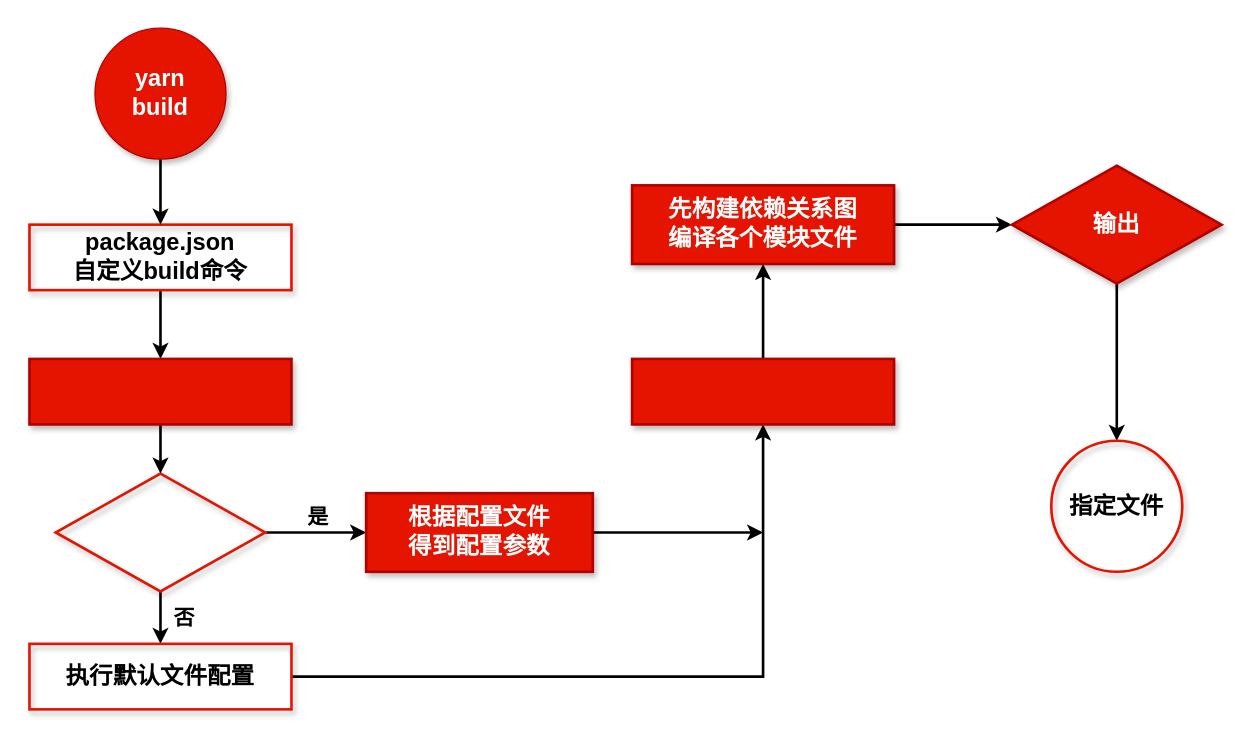
The diagram is 1252 pixels wide and 743 high, and some of its shapes have lost their labels. Each missing label, with the centre of its shape:
"找到入口" belongs at [764,393].
"是否配置文件" belongs at [161,533].
"真正执行webpack命令" belongs at [161,393].
